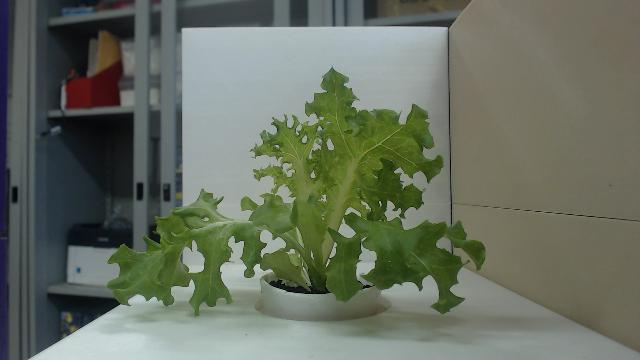Harvest Stage: (106, 68, 488, 316)
